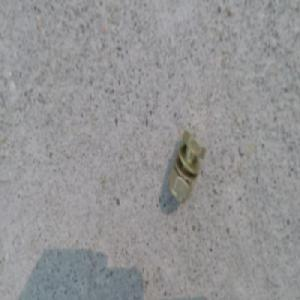BoltNutSet: (167, 131, 206, 203)
